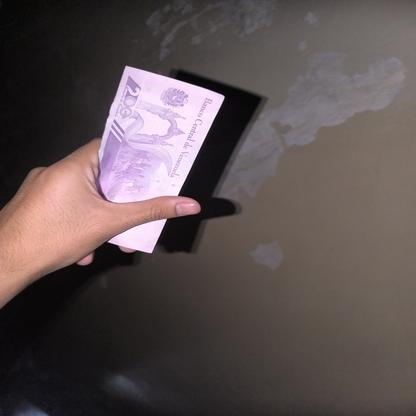vef_back: (94, 65, 225, 253)
